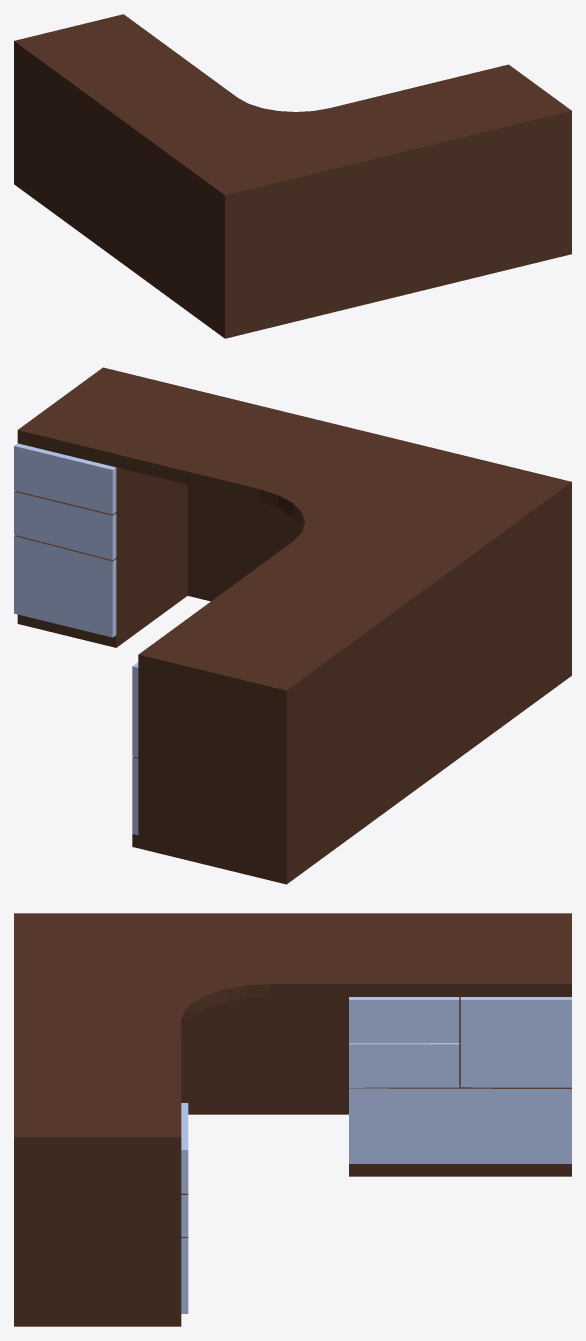
The model's file is Desk Prototype.glb.
3 views of the same model, one above another, from view 1: azimuth 30°, elevation 25°; view 2: azimuth 150°, elevation 25°; view 3: azimuth 270°, elevation 25° (orthographic). The views are drawn at different scales.
Visible parts, largest first — view 1: Desk; view 2: Desk; view 3: Desk, Drawer, Drawer.001.
Part boxes in pixels (x1,y1,x2,y2): Desk: (14,14,571,338); Desk: (14,367,571,884); Desk: (14,913,571,1326); Drawer: (349,997,459,1043); Drawer.001: (349,1043,459,1087).
Size of the model in its own units: 1.9 by 0.75 by 2.
